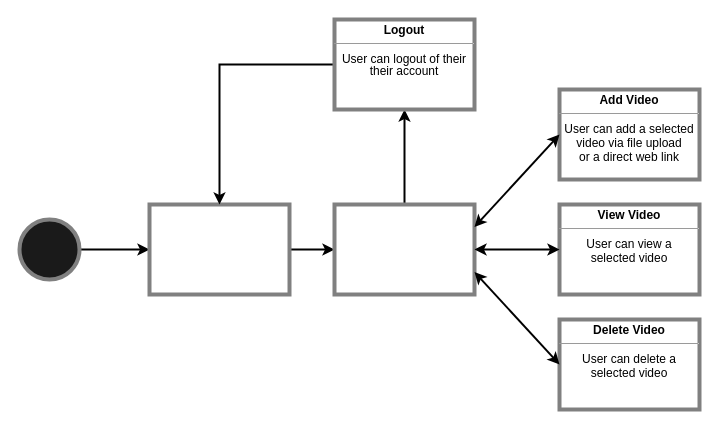
The diagram is 718 pixels wide and 428 high, and some of its shapes have lost their labels. Each missing label, with the box of its shape:
Home Page Page to allow user interaction with videos: (332, 202, 476, 296)
Login Page Users can enter their credentials to sign in: (147, 202, 291, 296)
